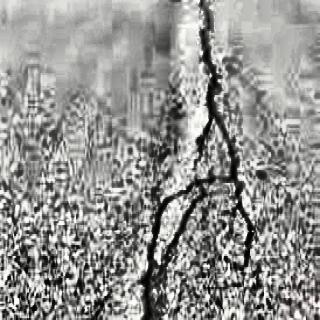crack: (140, 0, 258, 319)
